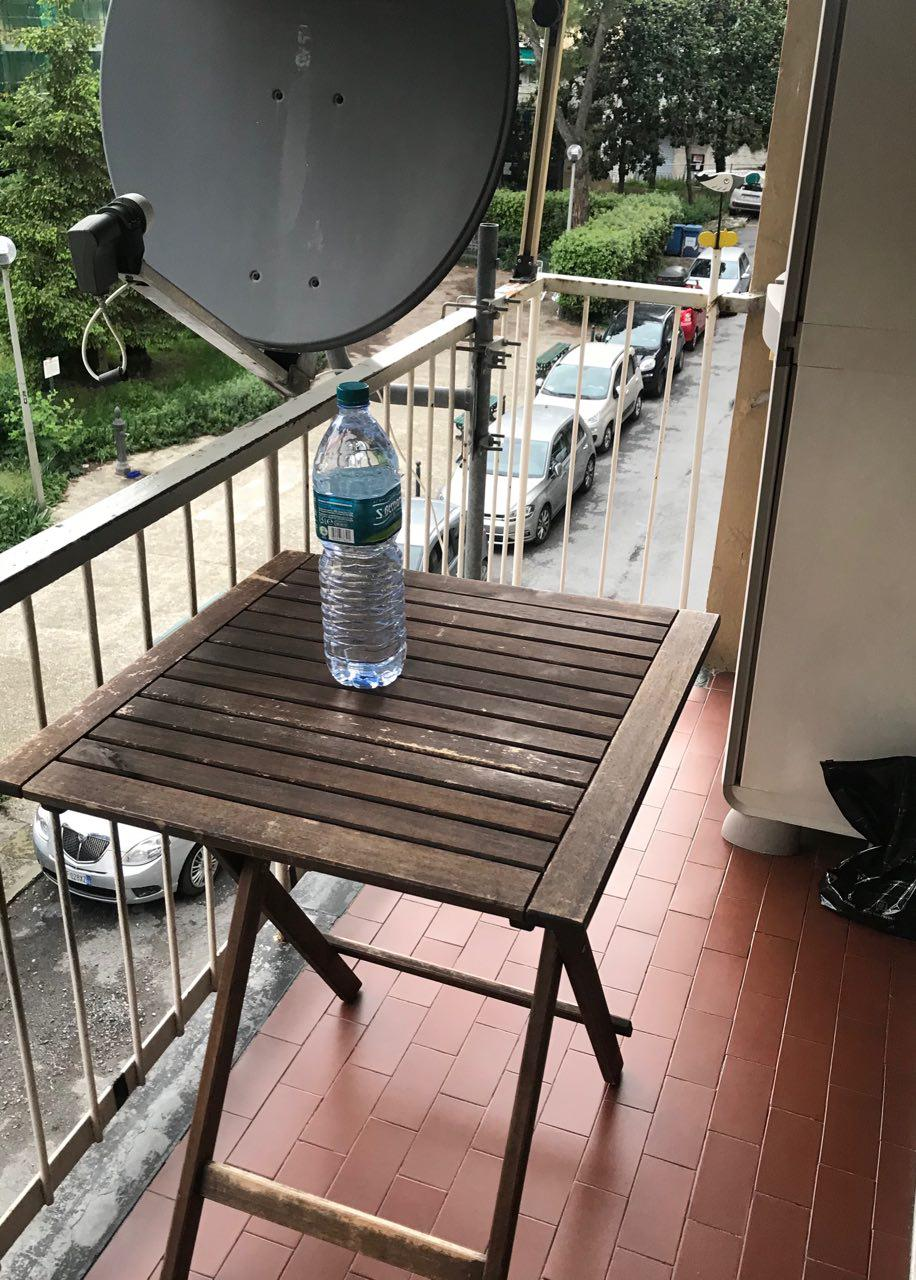san_bernardo: (312, 381, 408, 690)
